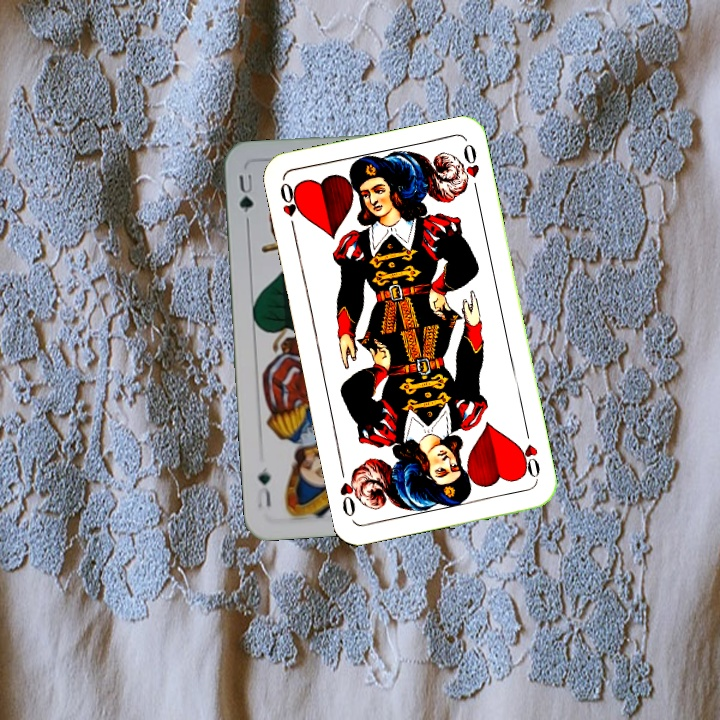GU: (234, 168, 256, 215)
HO: (514, 424, 543, 482), (276, 178, 304, 236)
